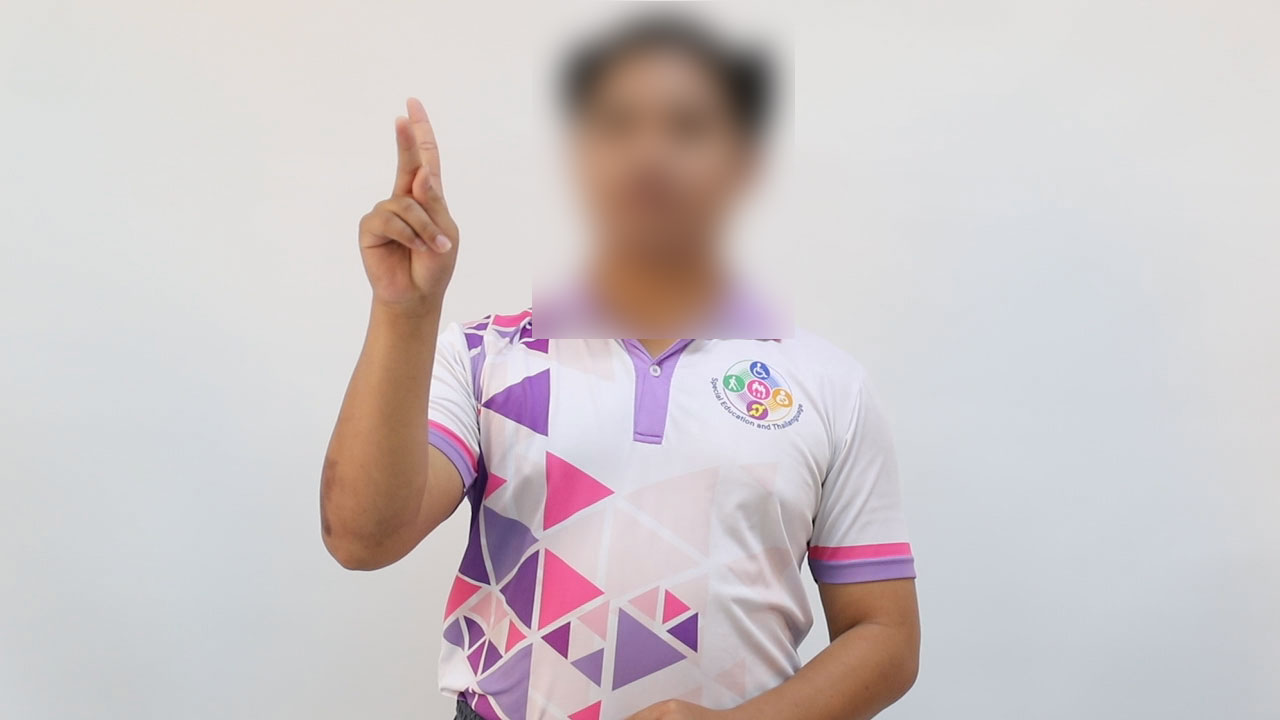ko: (351, 82, 473, 309)
